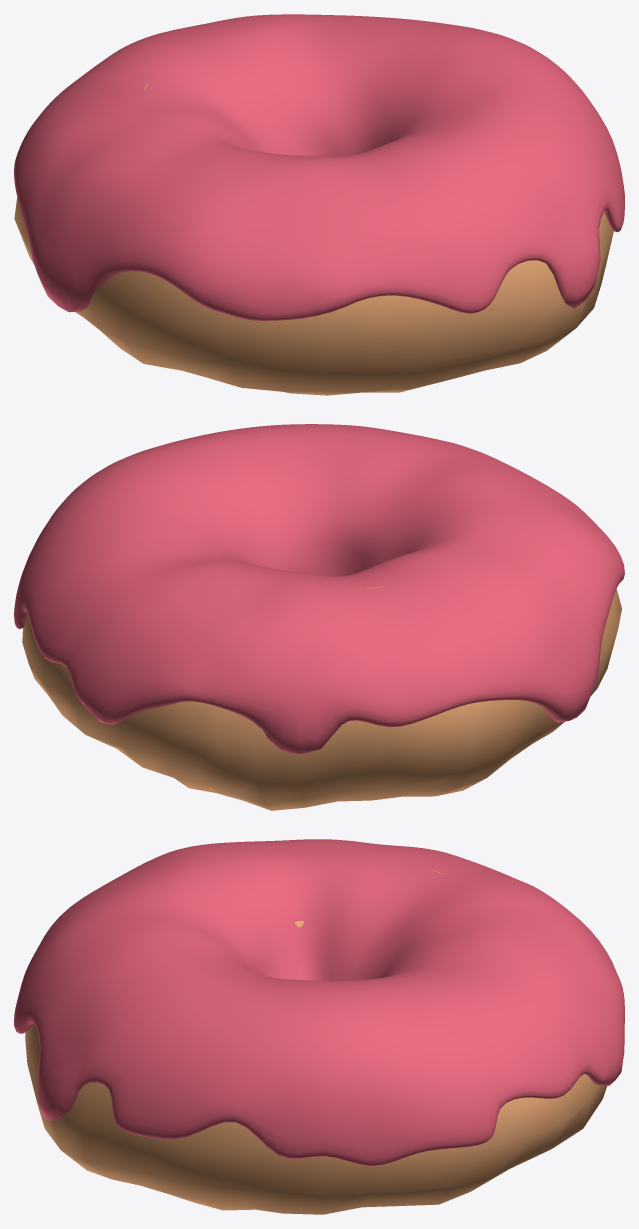
File: Donut.glb
3 views of the same model, one above another, from view 1: azimuth 30°, elevation 25°; view 2: azimuth 150°, elevation 25°; view 3: azimuth 270°, elevation 25° (orthographic).
Parts seen in each view (by area): view 1: Icing, Donut; view 2: Icing, Donut; view 3: Icing, Donut.
Part boxes in pixels (x1=…): Icing: x1=14, y1=14, x2=624, y2=320; Donut: x1=14, y1=83, x2=613, y2=395; Icing: x1=14, y1=424, x2=624, y2=754; Donut: x1=22, y1=586, x2=621, y2=810; Icing: x1=14, y1=839, x2=624, y2=1166; Donut: x1=25, y1=869, x2=606, y2=1214.
Size of what is drawn, in the model's own units: 0.1034 by 0.0417 by 0.1033.
